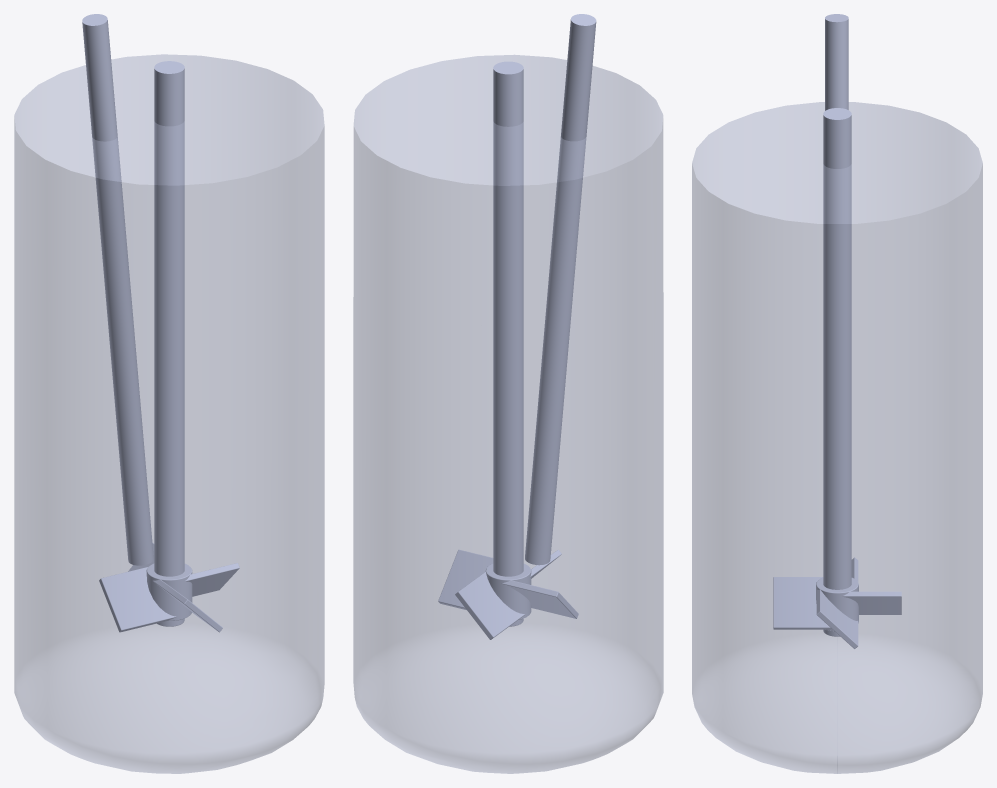
The picture shows the model from 3 angles, left to right: view 1: azimuth 30°, elevation 25°; view 2: azimuth 150°, elevation 25°; view 3: azimuth 270°, elevation 25°; orthographic projection. The views are drawn at different scales.
Visible parts, largest first — view 1: Tank, Impeller 51162722, Probe; view 2: Tank, Impeller 51162722, Probe; view 3: Tank, Impeller 51162722, Probe.
Part boxes in pixels (x1=…): Tank: x1=14, y1=54, x2=324, y2=773; Impeller 51162722: x1=99, y1=61, x2=239, y2=632; Probe: x1=82, y1=14, x2=153, y2=565; Tank: x1=353, y1=54, x2=663, y2=773; Impeller 51162722: x1=438, y1=61, x2=578, y2=639; Probe: x1=525, y1=14, x2=596, y2=565; Tank: x1=692, y1=102, x2=982, y2=773; Impeller 51162722: x1=773, y1=108, x2=901, y2=648; Probe: x1=825, y1=14, x2=848, y2=110.
Bounding box in the file's own units: 0.102 × 0.2687 × 0.102.
